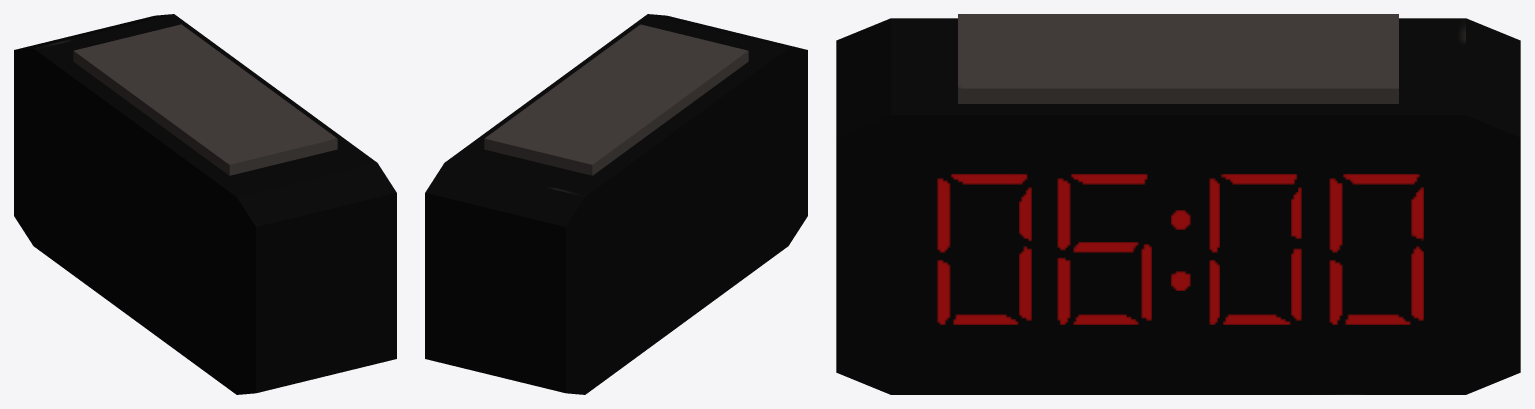
The model's file is digital_alarm.glb.
The picture shows the model from 3 angles, left to right: view 1: azimuth 30°, elevation 25°; view 2: azimuth 150°, elevation 25°; view 3: azimuth 270°, elevation 25°; orthographic projection. The views are drawn at different scales.
Visible parts, largest first — view 1: digital_alarm; view 2: digital_alarm; view 3: digital_alarm.
Part boxes in pixels (x1,y1,x2,y2): digital_alarm: (14,14,396,394); digital_alarm: (425,14,807,394); digital_alarm: (836,14,1520,394).
Size of the model in its own units: 1.49 by 2.11 by 4.43.
Materials: 1 (1 with a texture image).
